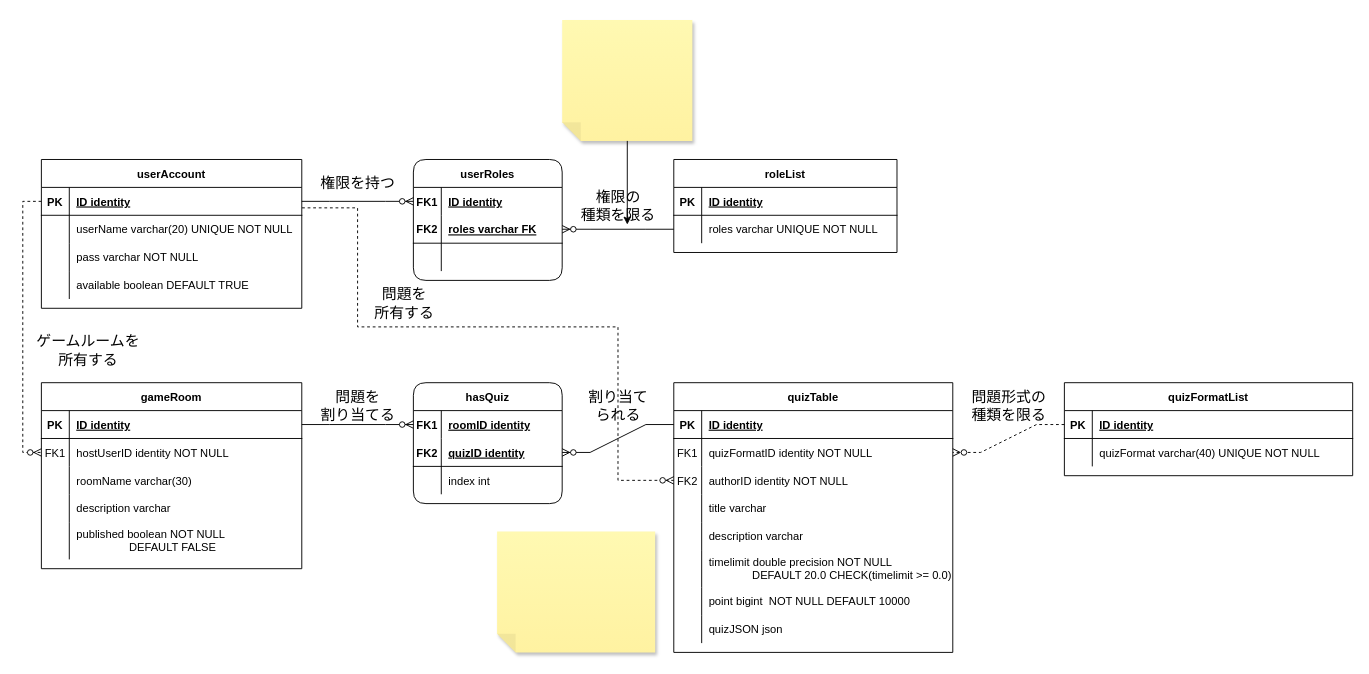
The diagram is 1369 pixels wide and 674 high, and some of its shapes have lost their labels. The shapes that lost their labels are listed below. From the top down, each one's centre as x and y in pixels, then its label:
At point (628, 81): "ID管理を基本的にするのならば，userRoles - roleListの関連もID同士にすべきに思う．".
At point (576, 592): "完全SQLで問題データを格納/管理するか， 問題データ自体はJSON形式で格納するか".
